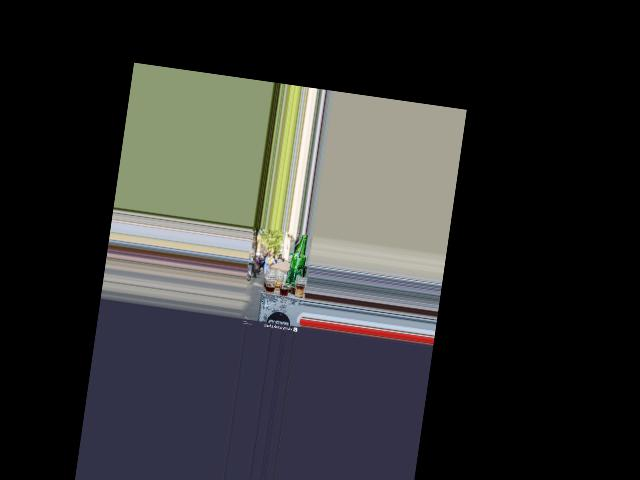beer: (283, 233, 309, 292)
